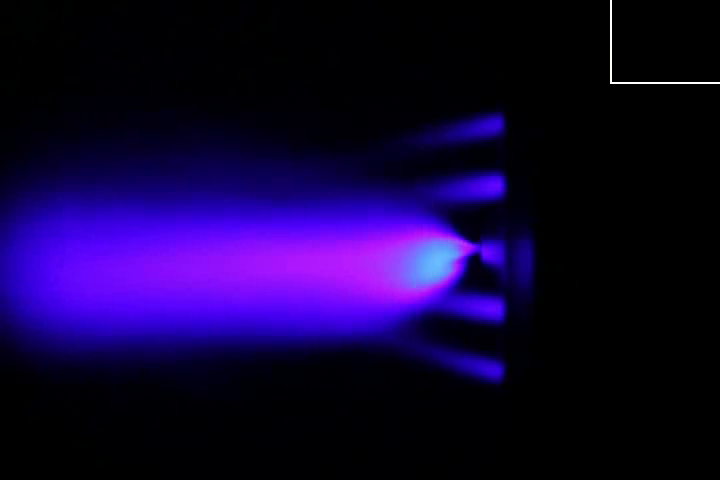burner cap: (483, 237, 507, 270)
pilot flame: (408, 343, 509, 384), (404, 170, 505, 207), (415, 113, 508, 148), (436, 289, 504, 326)
stable: (330, 216, 482, 299)
